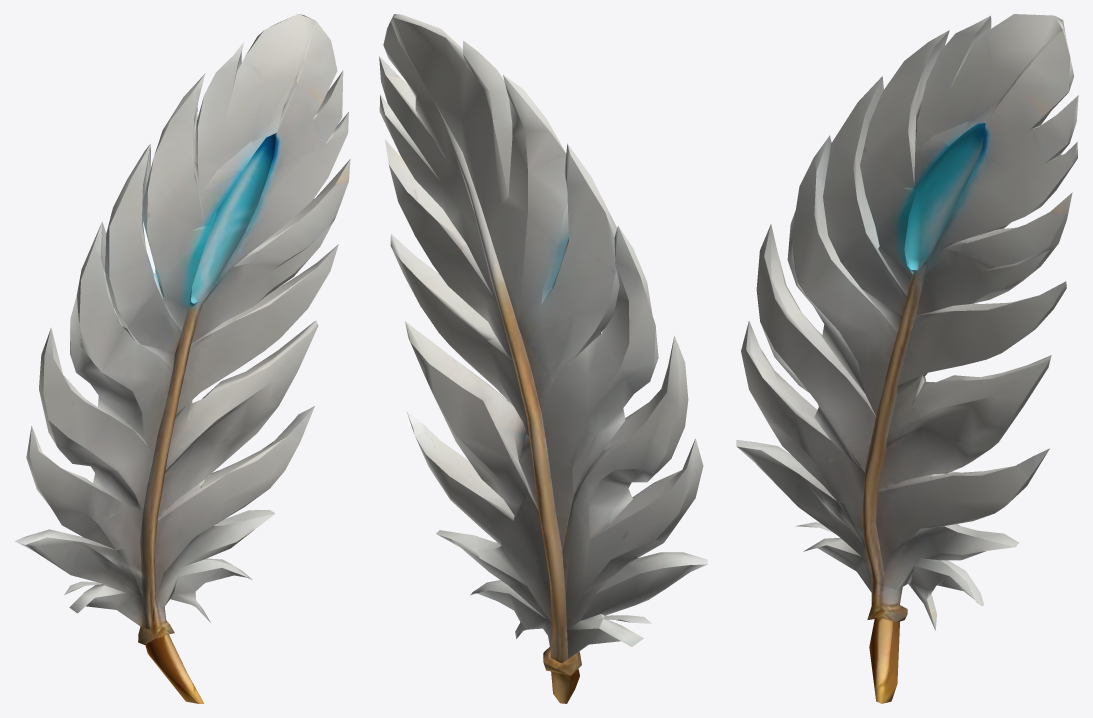
Rendered from m2Feather.glb.
3 views of the same model, side by side, from view 1: azimuth 30°, elevation 25°; view 2: azimuth 150°, elevation 25°; view 3: azimuth 330°, elevation 25° (orthographic). The views are drawn at different scales.
Visible parts, largest first — view 1: model; view 2: model; view 3: model.
Part boxes in pixels (x1,y1,x2,y2): model: (15, 14, 350, 703); model: (379, 14, 707, 703); model: (736, 14, 1078, 703).
Bounding box in the file's own units: 1 × 1.9 × 0.2606.
Materials: 1 (1 with a texture image).
